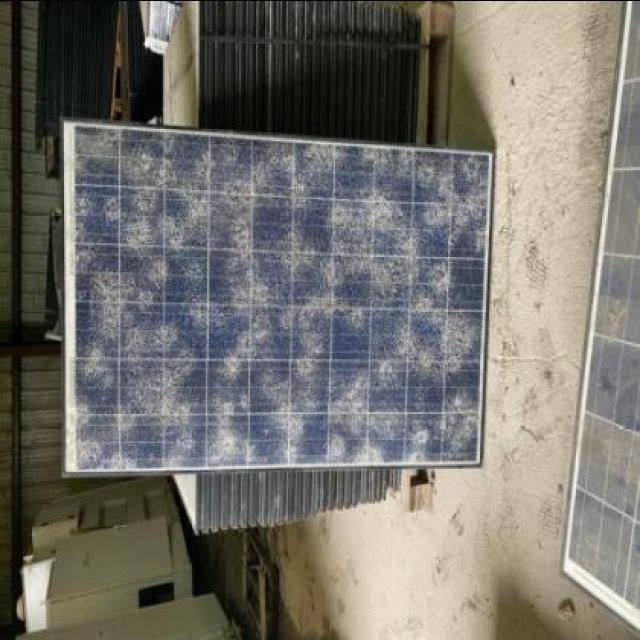soiled: (58, 116, 491, 474), (567, 17, 640, 614)
